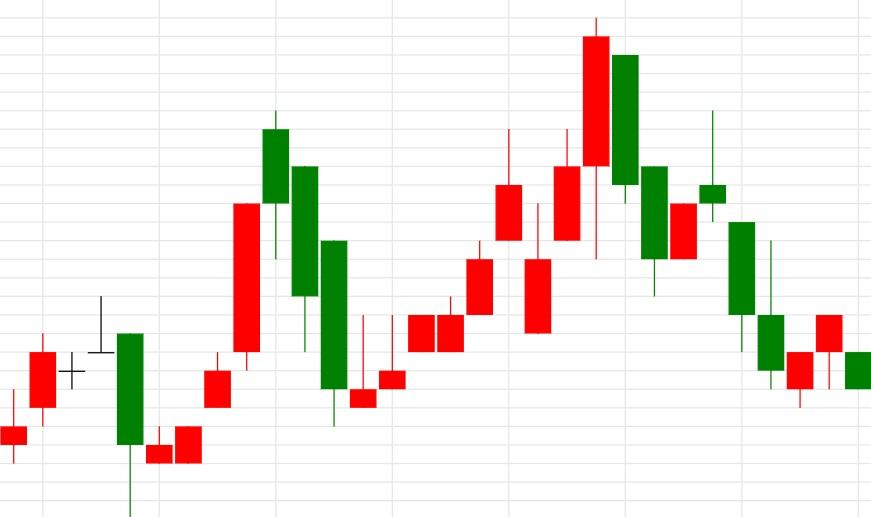three_white_soldiers_rise: (262, 108, 436, 427)
